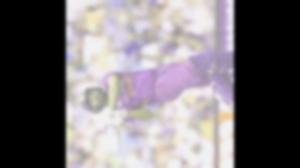batsman: (79, 40, 234, 146)
